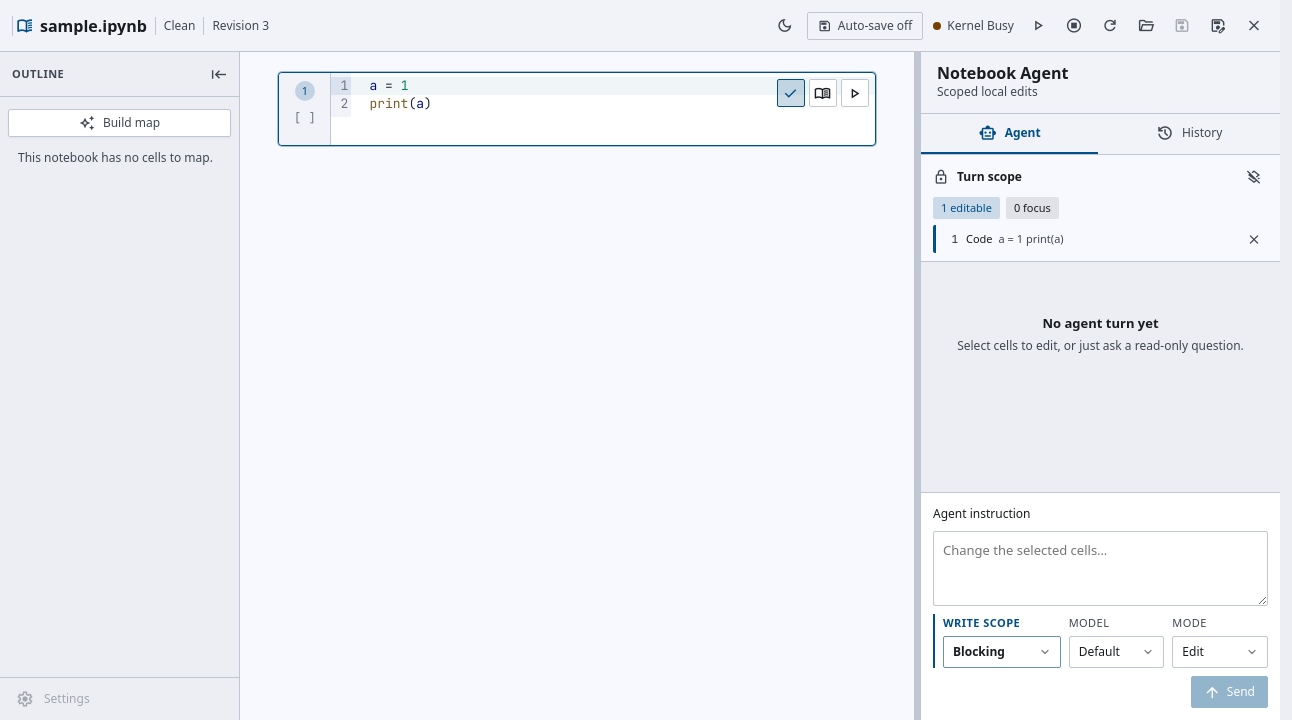
Scenario: remediation behaviors › does not let a refresh started before start-turn clear the created turn
The image size is (1292, 720).
Expected: the text "Revision 3" is shown, x1=203 y1=16 x2=269 y2=34
Type "Update selected cell" into the text box labelled "Agent instruction" at (1100, 569), box x1=933 y1=531 x2=1268 y2=606
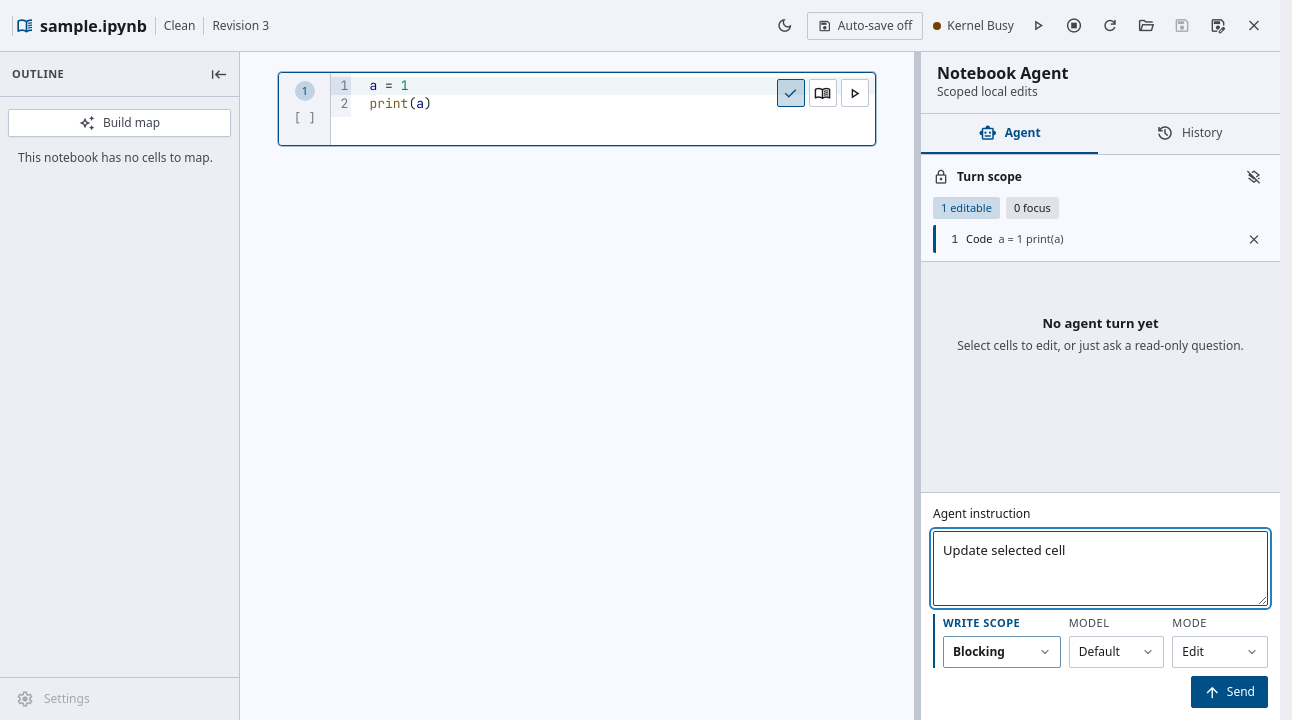
Click the button "Send" at (1229, 692), box x1=1191 y1=676 x2=1268 y2=708
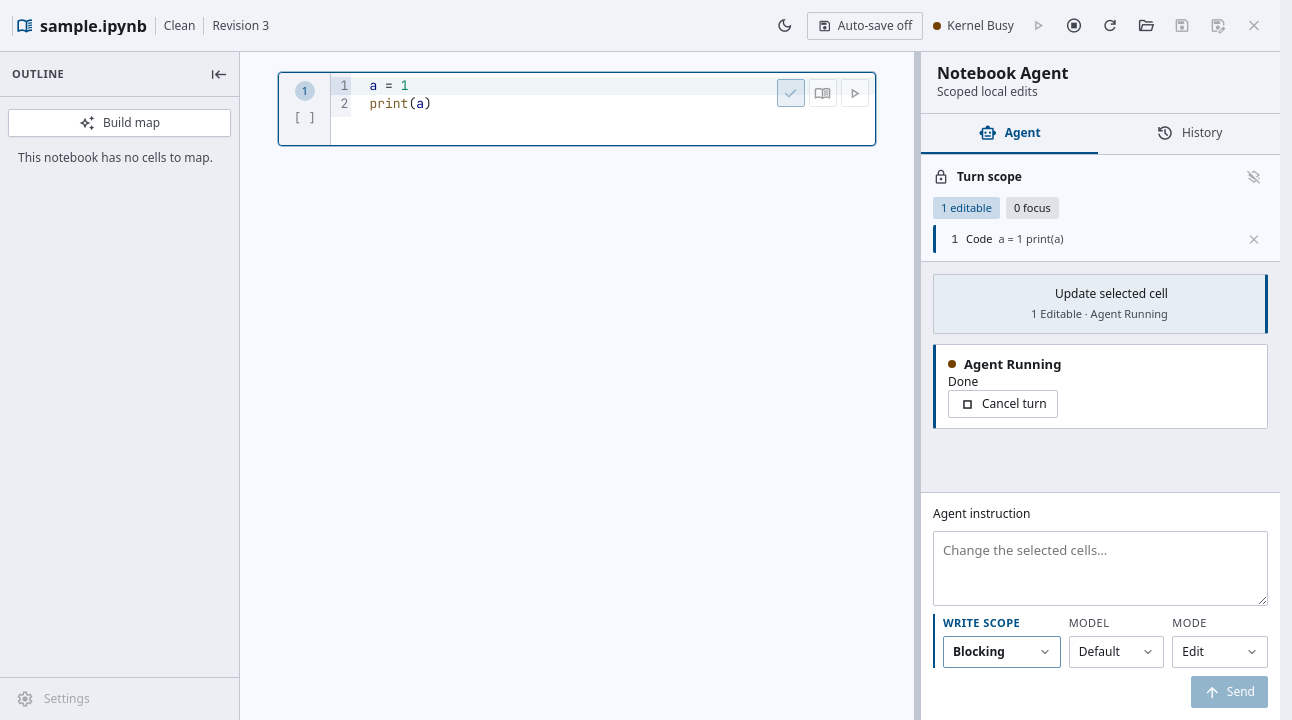
Now the text "agent running" is shown, box x1=948 y1=355 x2=1061 y2=373
Now the button named "Run code cell 1" is disabled, box x1=841 y1=79 x2=869 y2=107
